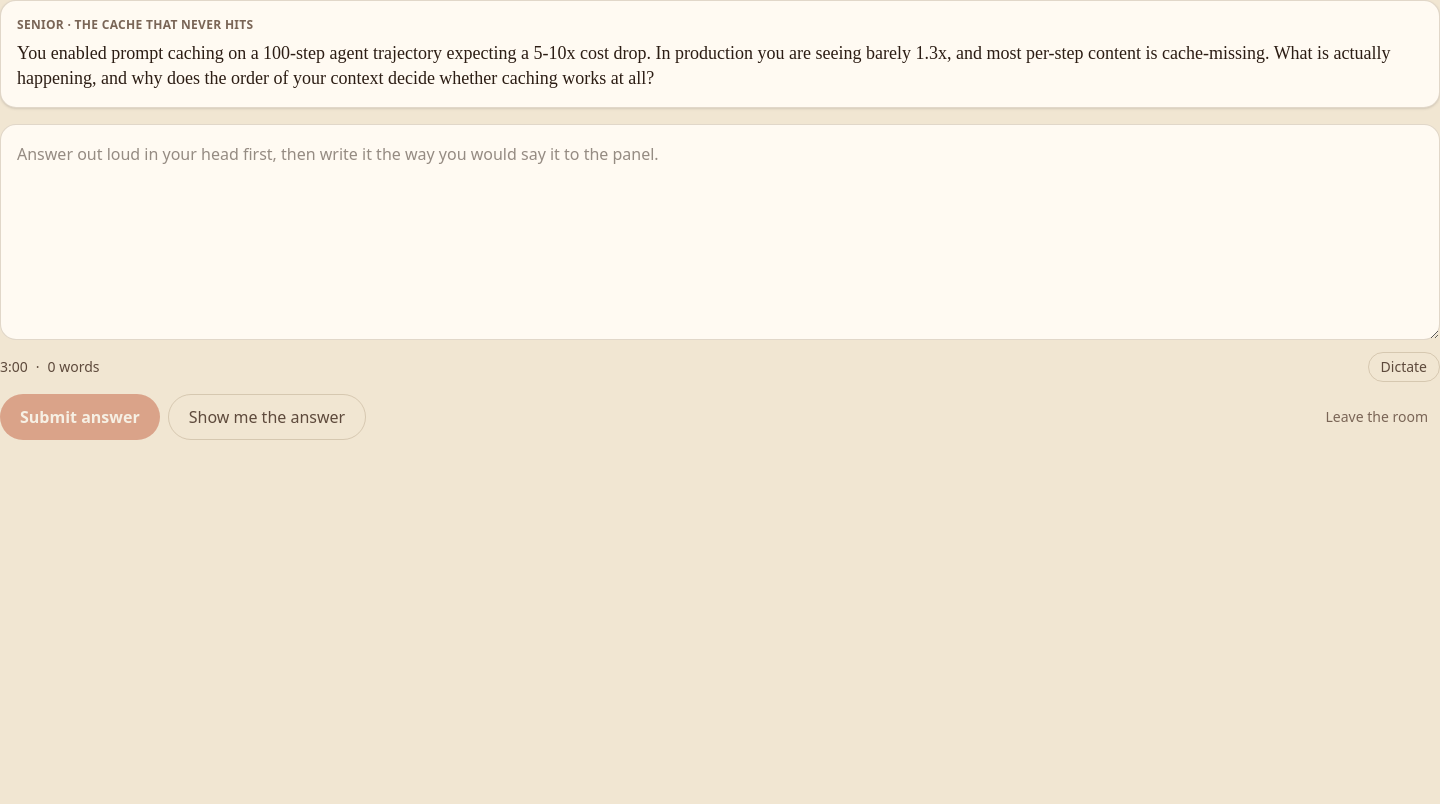
InterviewPanel › shows what other people scored once the server answers
Click the text box named "your answer" at (720, 232), box x1=0 y1=124 x2=1439 y2=340
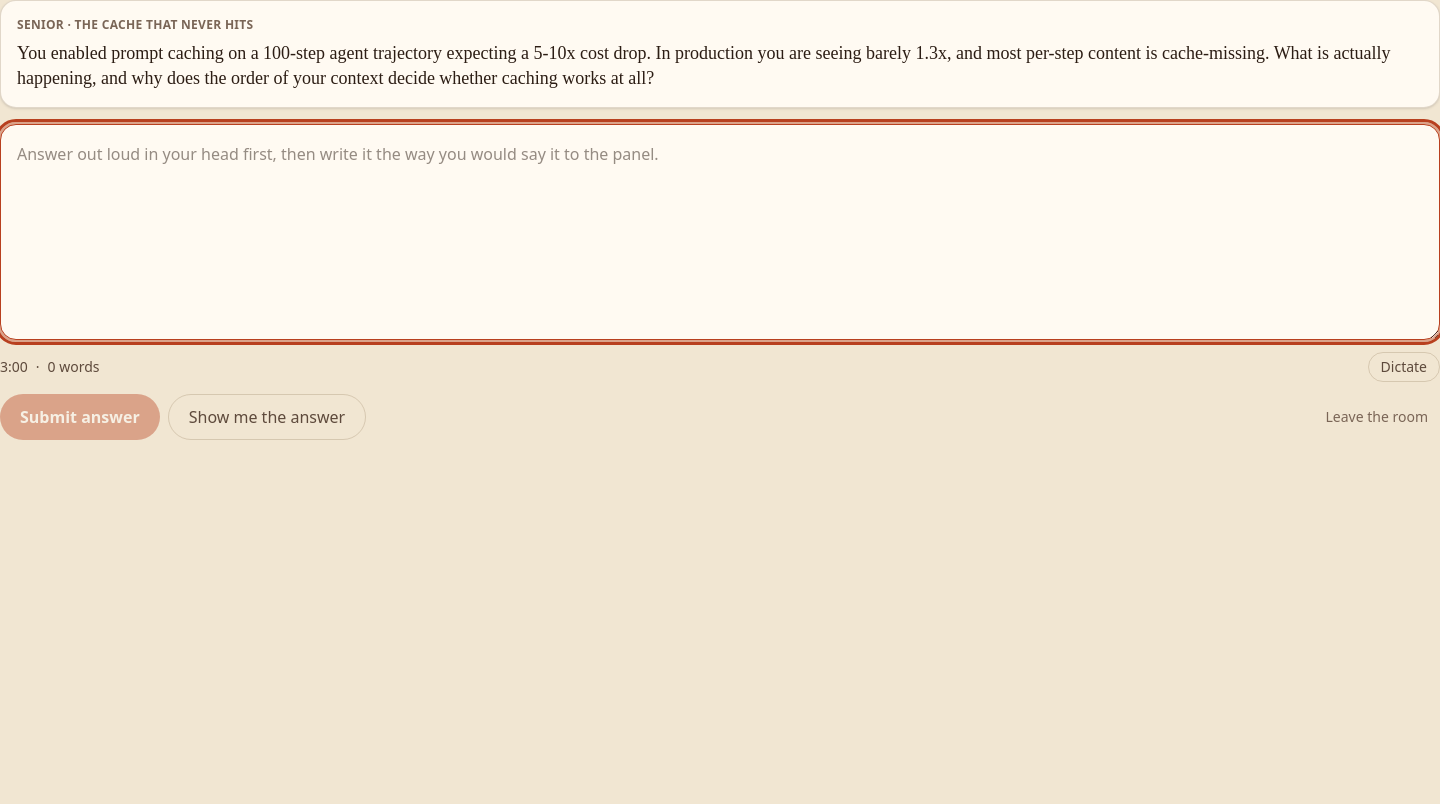
Type keys "Prompt caching is a prefix match, so one changed token early invalidates everything after it. Keep the context append-only with the system prompt and tool definitions frozen at the front, and remember"
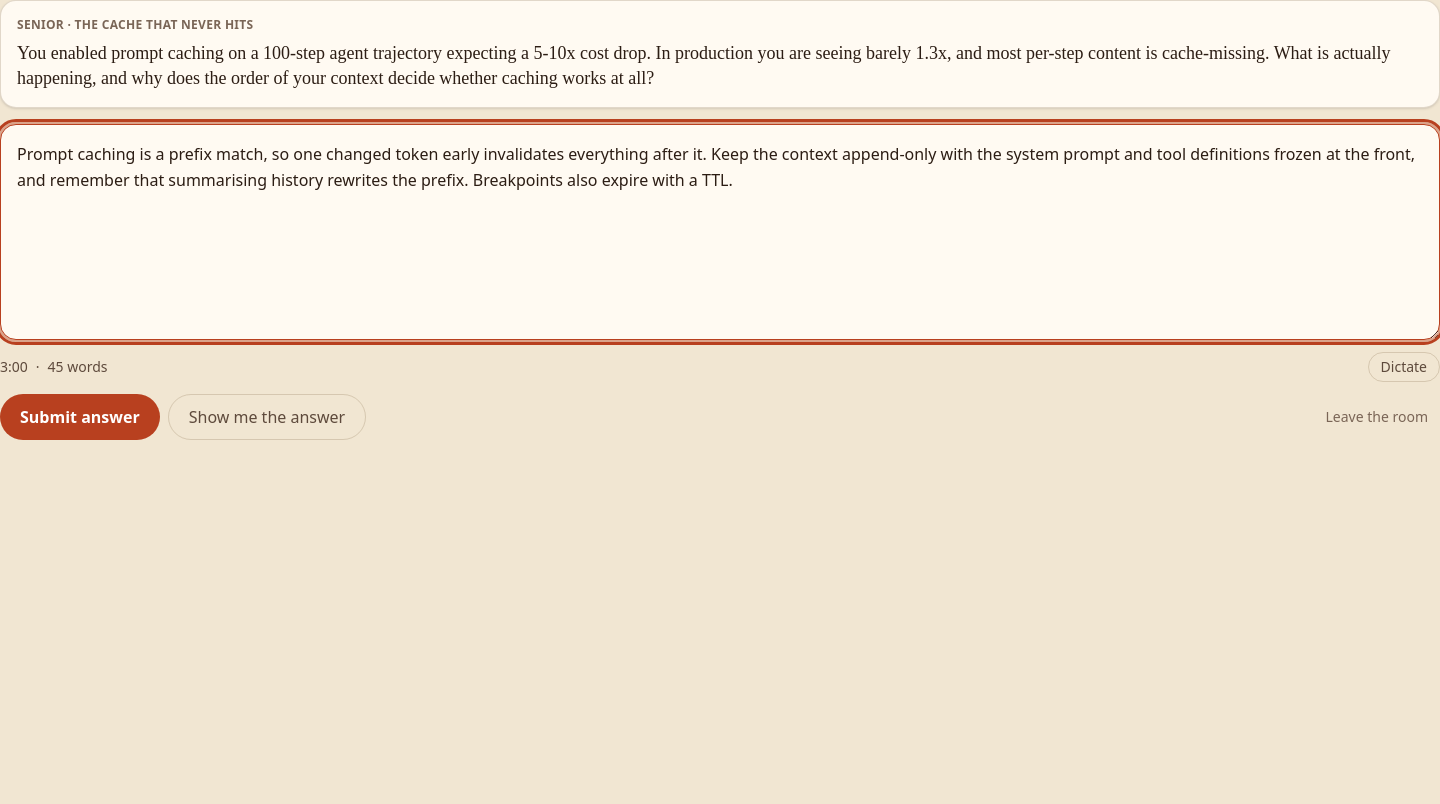
Click the button "Submit answer" at (80, 416), box x1=0 y1=394 x2=160 y2=440
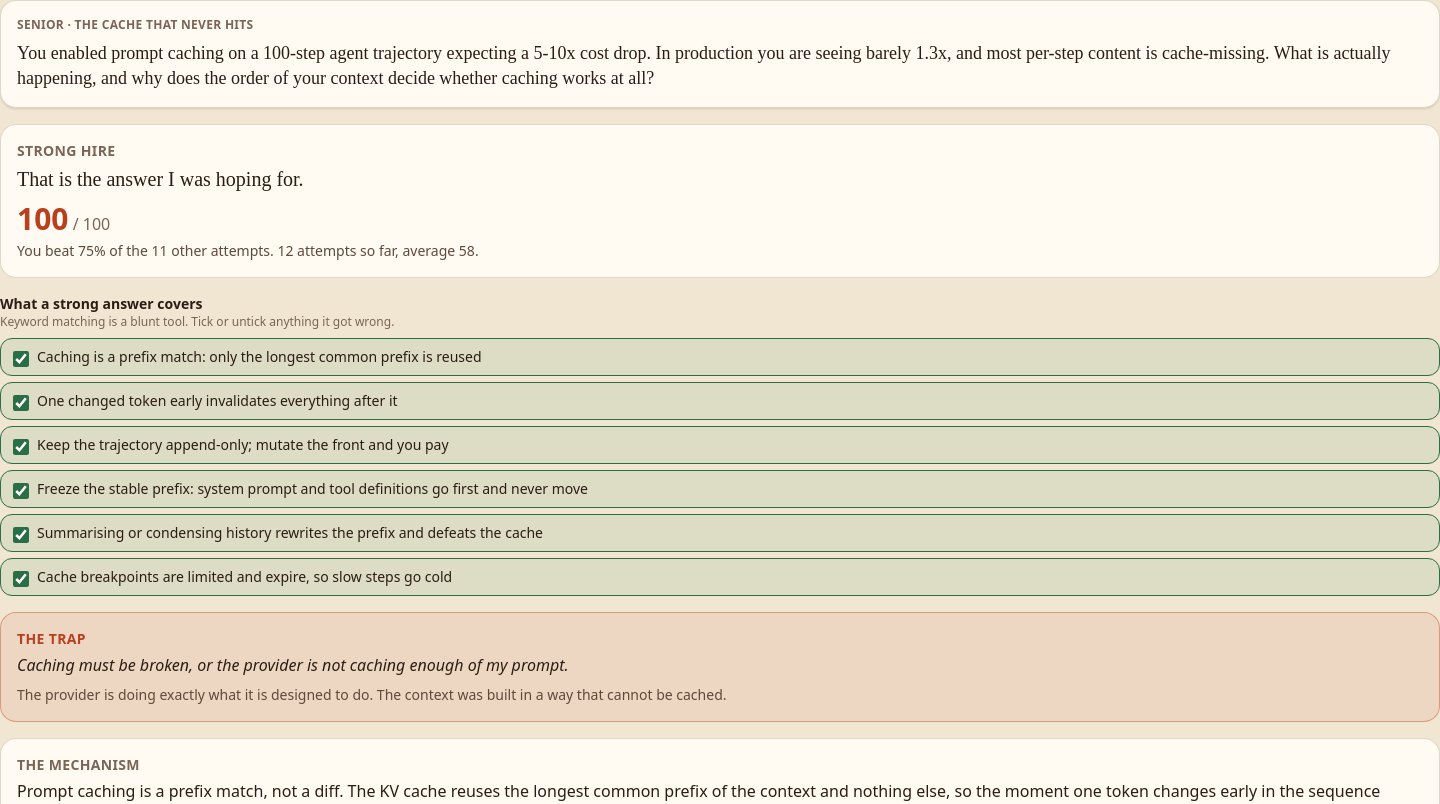
Now the text "12 attempts so far" is shown, box x1=17 y1=240 x2=479 y2=260
